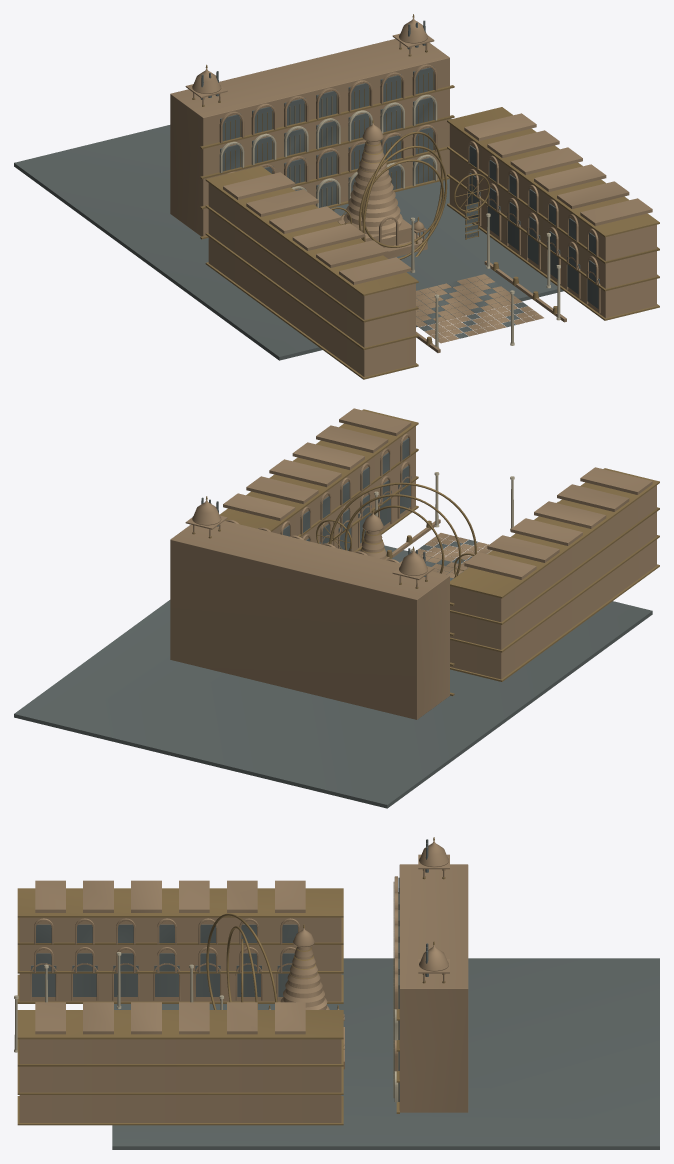
File: arena-30.glb
The picture shows the model from 3 angles, top to bottom: view 1: azimuth 30°, elevation 25°; view 2: azimuth 150°, elevation 25°; view 3: azimuth 270°, elevation 25°; orthographic projection. The views are drawn at different scales.
Parts seen in each view (by area): view 1: correction-sand, correction-dark, correction-bronze, correction-plaster; view 2: correction-sand, correction-dark, correction-bronze; view 3: correction-sand, correction-dark, correction-bronze, correction-plaster.
Part boxes in pixels (box(x1,y1,x2,y2)): correction-sand: box(170, 17, 656, 376); correction-dark: box(14, 20, 599, 360); correction-bronze: box(192, 14, 659, 379); correction-plaster: box(219, 94, 560, 347); correction-sand: box(170, 408, 656, 719); correction-dark: box(14, 438, 652, 808); correction-bronze: box(192, 409, 659, 695); correction-sand: box(19, 841, 468, 1122); correction-dark: box(31, 839, 659, 1149); correction-bronze: box(17, 837, 445, 1125); correction-plaster: box(14, 952, 397, 1102).
Size of the model in its own units: 65 by 27.19 by 94.35.
